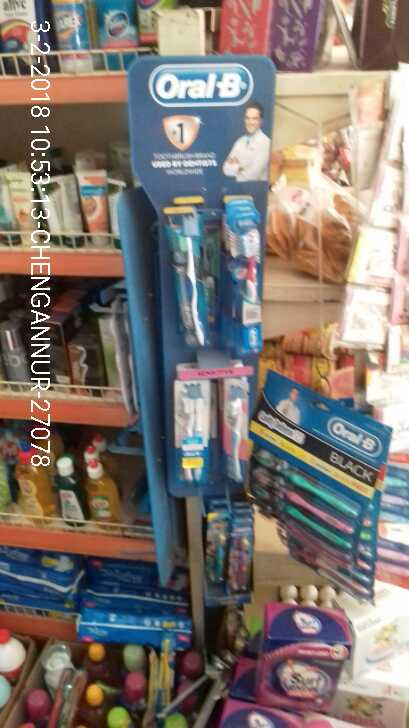pharmacy: (82, 556, 186, 620), (163, 207, 209, 347), (223, 196, 262, 347), (79, 605, 194, 655), (1, 545, 81, 610), (171, 378, 212, 490), (222, 375, 248, 483)
